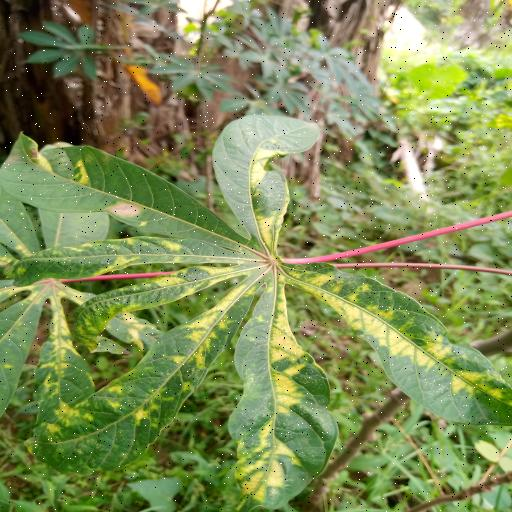Cassava_Mosaic: (9, 112, 512, 512)
